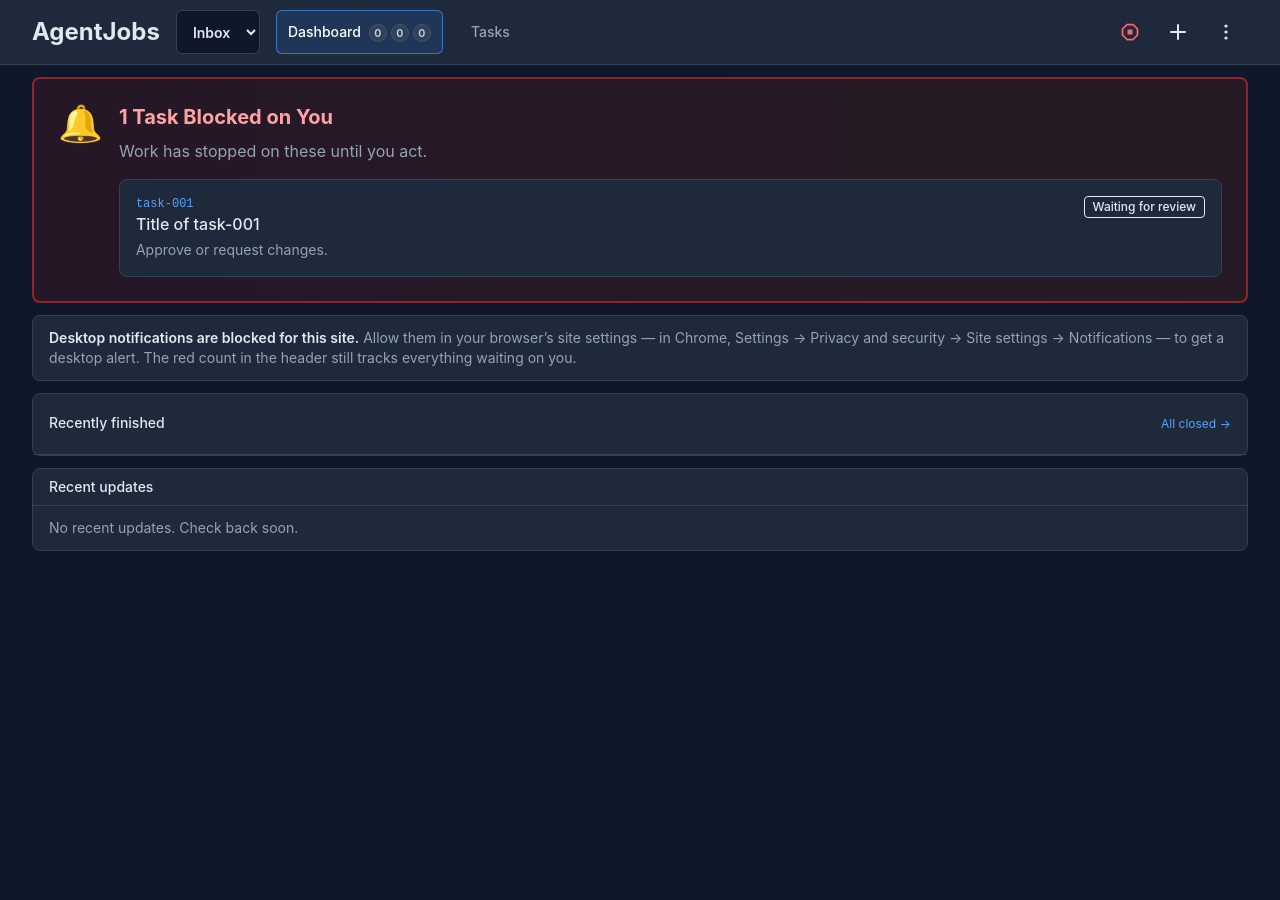
the Tasks surface at a landscape viewport › lands on the Tasks surface, list included, when a task is opened from the Dashboard
What coordinates should you click on to do the following:
click the link "task-001"
I would click on:
 (165, 204)
Its box is [119, 179, 1222, 277].
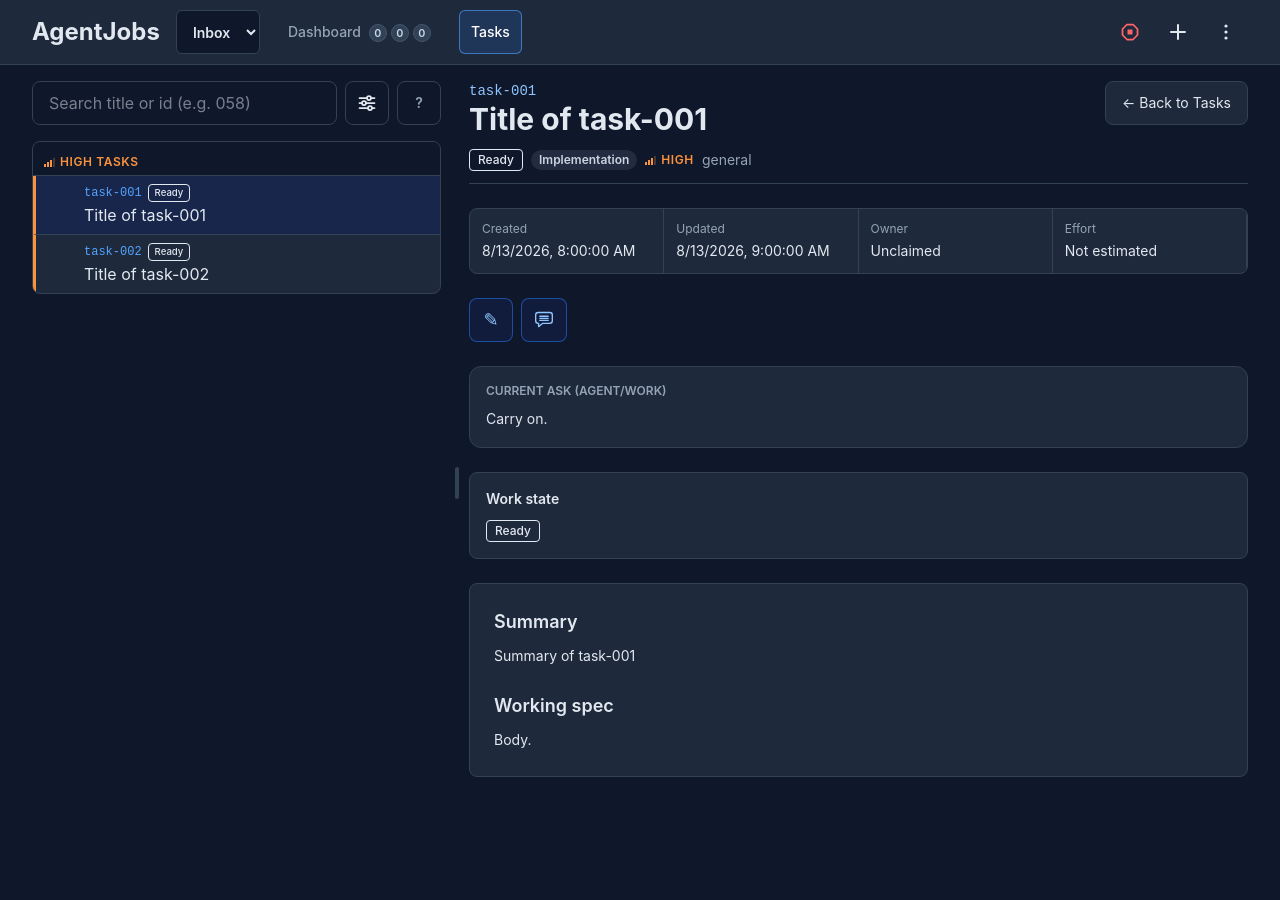
expect the heading "Title of task-001" is shown: met, box [469, 101, 707, 137]
expect the element named "Task list" is shown: met, box [31, 81, 479, 294]
